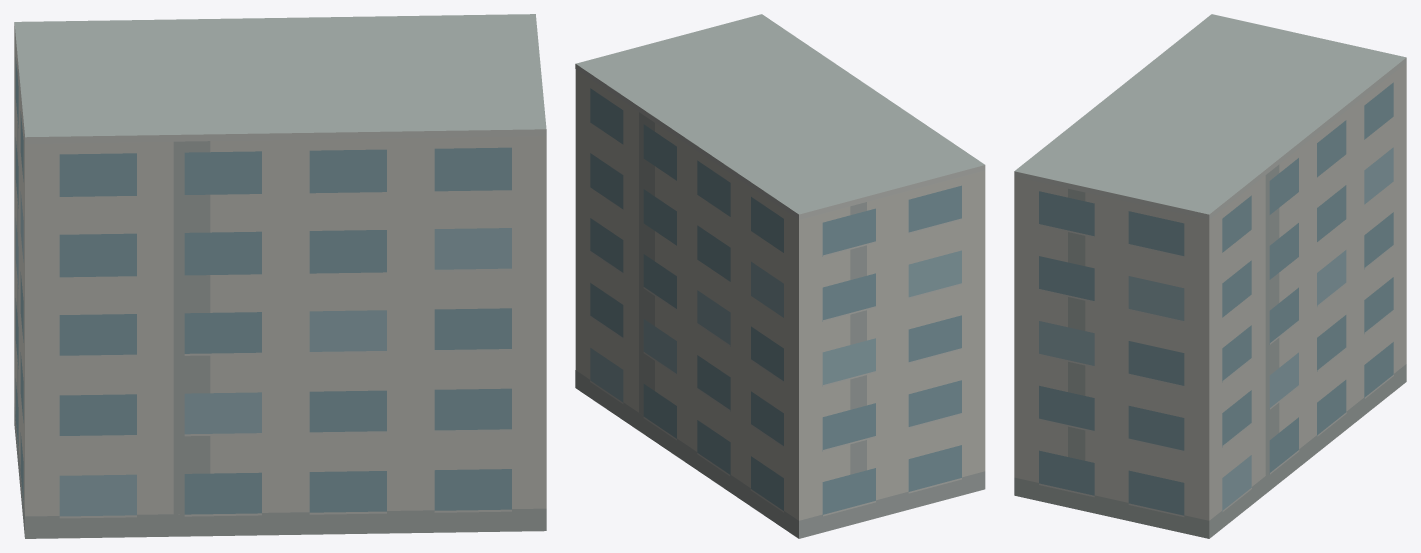
File: survey-upis-32739974.glb
The picture shows the model from 3 angles, left to right: view 1: azimuth 30°, elevation 25°; view 2: azimuth 150°, elevation 25°; view 3: azimuth 270°, elevation 25°; orthographic projection. The views are drawn at different scales.
Parts seen in each view (by area): view 1: survey-upis-32739974.tmp; view 2: survey-upis-32739974.tmp; view 3: survey-upis-32739974.tmp.
Part boxes in pixels (x1,y1,x2,y2): survey-upis-32739974.tmp: [14, 14, 546, 538]; survey-upis-32739974.tmp: [575, 14, 985, 538]; survey-upis-32739974.tmp: [1014, 14, 1406, 538].
Bounding box in the file's own units: 19.24 × 14.5 × 15.91.
